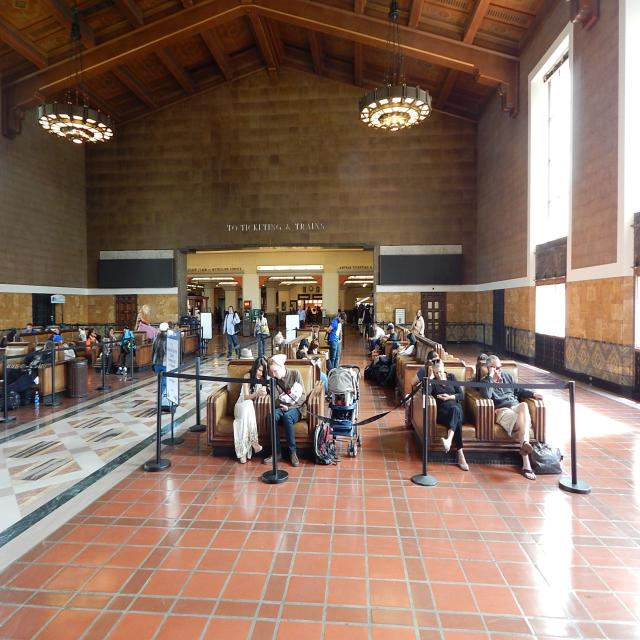body: (479, 354, 543, 480), (423, 355, 471, 473), (262, 353, 308, 467), (232, 357, 270, 464), (0, 340, 56, 397), (296, 338, 332, 398), (384, 332, 417, 387), (150, 322, 170, 404), (326, 311, 347, 368), (116, 324, 137, 376), (410, 350, 440, 386), (222, 305, 242, 358), (308, 340, 328, 392), (252, 308, 270, 361), (100, 326, 118, 374), (278, 381, 303, 409), (52, 334, 76, 362), (378, 324, 398, 356), (48, 328, 64, 368), (466, 353, 488, 382), (367, 322, 386, 355), (134, 304, 151, 331), (411, 308, 425, 336), (362, 304, 372, 338), (274, 331, 289, 352), (85, 328, 102, 344), (357, 304, 365, 336), (297, 304, 306, 329), (238, 348, 254, 360), (174, 322, 185, 338), (22, 322, 38, 333), (5, 326, 18, 339), (216, 308, 223, 332), (306, 306, 312, 326), (26, 342, 36, 354), (318, 306, 322, 326), (289, 304, 296, 315), (335, 308, 341, 318), (353, 305, 356, 324), (316, 305, 319, 323), (262, 304, 266, 312), (191, 307, 194, 317), (40, 326, 45, 331), (58, 324, 64, 328)
